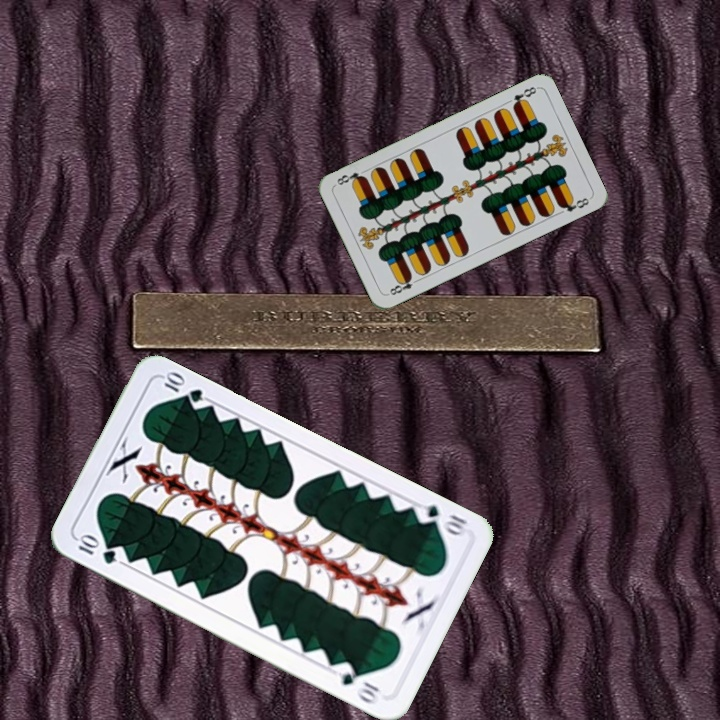E8: (384, 272, 422, 298), (509, 82, 539, 110)
G10: (411, 499, 470, 540), (72, 531, 120, 567)
